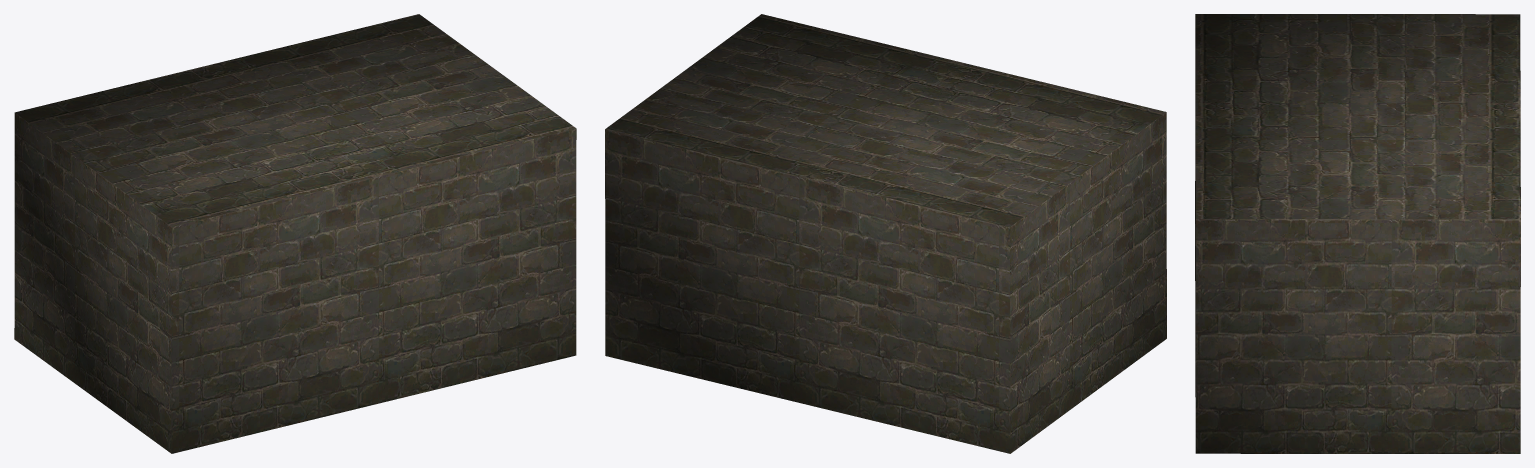
The model's file is S_Build_Forest066.FBX.
3 views of the same model, side by side, from view 1: azimuth 30°, elevation 25°; view 2: azimuth 150°, elevation 25°; view 3: azimuth 270°, elevation 25° (orthographic). The views are drawn at different scales.
Visible parts, largest first — view 1: S_Build_Forest066; view 2: S_Build_Forest066; view 3: S_Build_Forest066.
Part boxes in pixels (x1=…): S_Build_Forest066: x1=14, y1=14, x2=576, y2=453; S_Build_Forest066: x1=605, y1=14, x2=1166, y2=453; S_Build_Forest066: x1=1195, y1=14, x2=1520, y2=453.
Bounding box in the file's own units: 1213 × 815 × 651.
